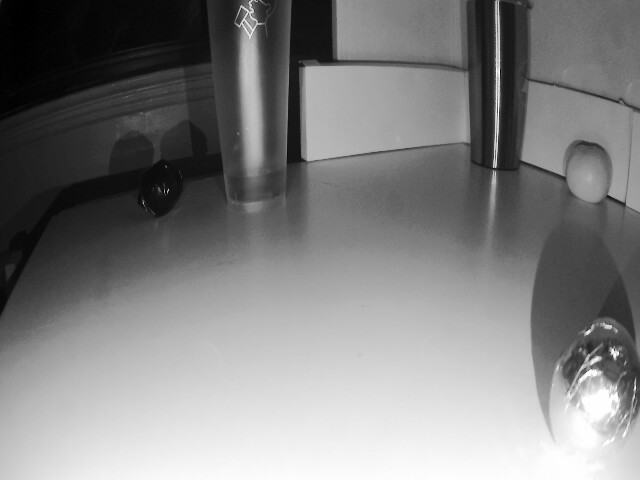black: (545, 316, 640, 468)
silver: (142, 162, 180, 214)
